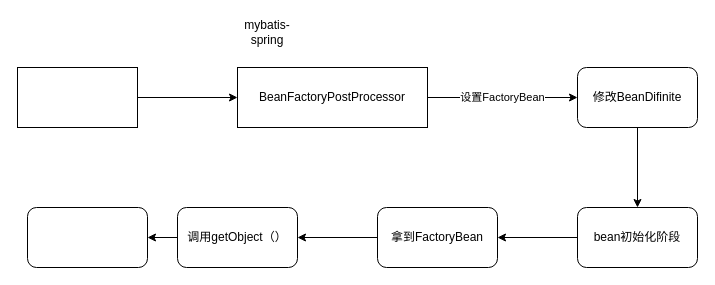
Some shapes in this 715 by 285 pixel diagram are drawn without their labels. Here are the shapes that lost their labels. From the top down, the centre of each, then its label:
At pixel 77 97: "MapperInterface".
At pixel 87 237: "获取sqlSession 代理对象".
